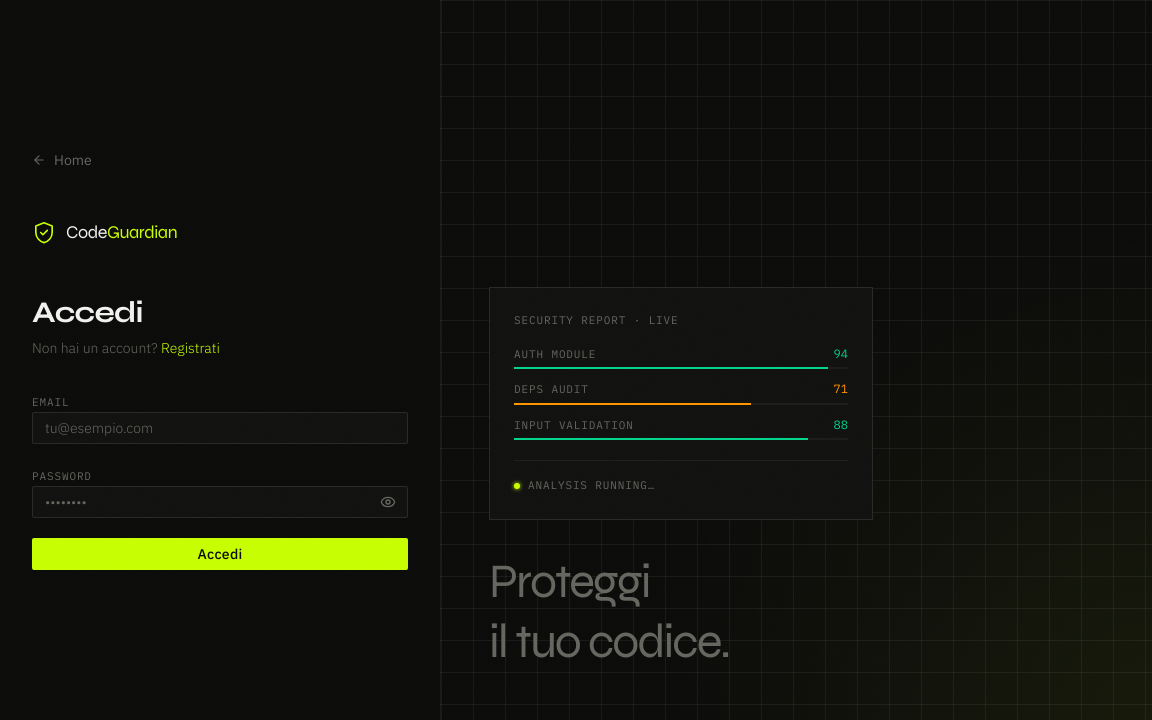
Scenario: LoginPage › blocks submission and shows error when email is empty
This screenshot has width=1152, height=720.
Click the button "Accedi": [220, 554] box [32,538,408,570]
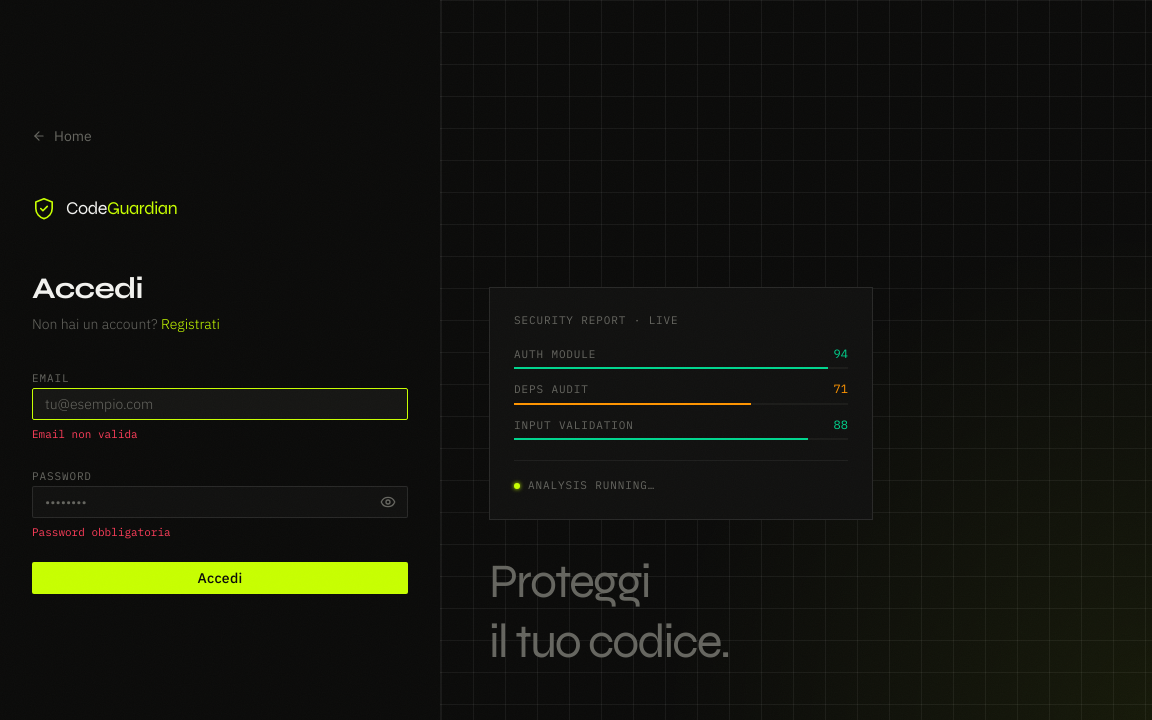
Expected: the text "Email non valida" is shown, [32,427,138,441]
